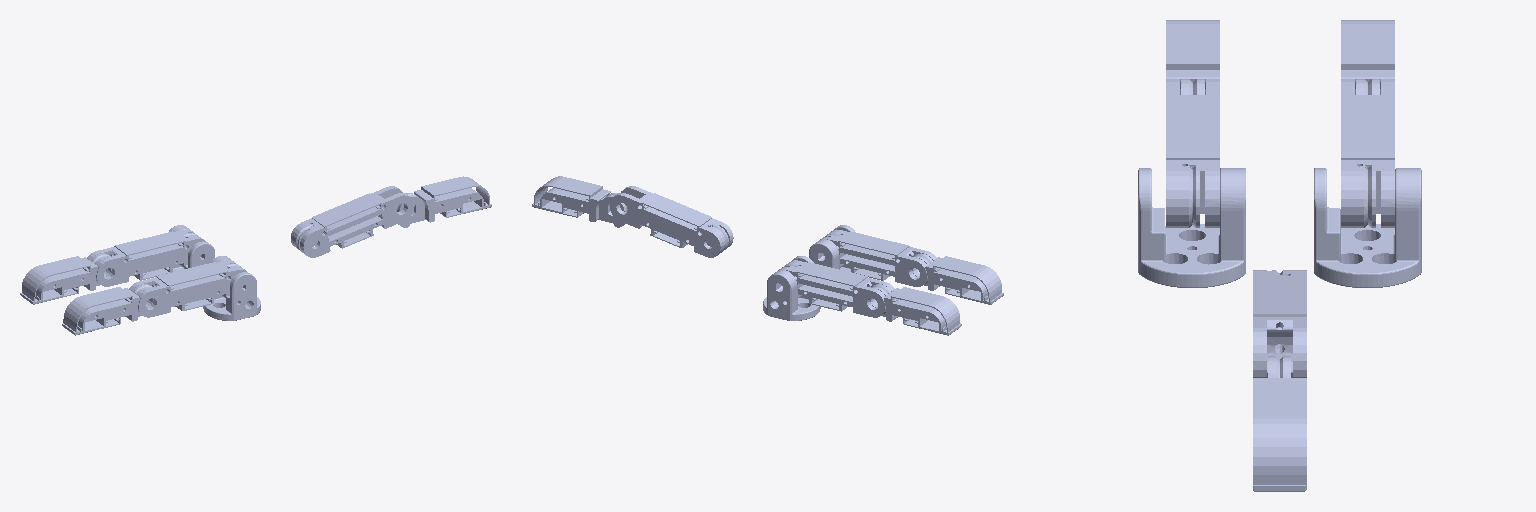
robot.urdf — decopin_hand:
<?xml version="1.0" encoding="utf-8"?>
<!-- This URDF was automatically created by SolidWorks to URDF Exporter! Originally created by [author] ([email redacted])
     Commit Version:   Build Version: 1.5.7377.30466
     For more information, please see http://wiki.ros.org/sw_urdf_exporter -->
<robot
  name="decopin_hand">
  <link
    name="base_link">
    <inertial>
      <origin
        xyz="0.00326666110843798 -0.00336166240876631 0.0343253683259049"
        rpy="0 0 0" />
      <mass
        value="0.162712098324136" />
      <inertia
        ixx="0.000123695295505319"
        ixy="9.75880411617553E-06"
        ixz="1.10241429732574E-05"
        iyy="0.000177834113016212"
        iyz="-3.76890838864753E-07"
        izz="0.00027106266998108" />
    </inertial>
    <visual>
      <origin
        xyz="0 0 0"
        rpy="0 0 0" />
      <geometry>
        <mesh
          filename="package://decopin_hand/model/meshes/base_link.STL" />
      </geometry>
      <material
        name="">
        <color
          rgba="0.792156862745098 0.819607843137255 0.933333333333333 1" />
      </material>
    </visual>
    <collision>
      <origin
        xyz="0 0 0"
        rpy="0 0 0" />
      <geometry>
        <mesh
          filename="package://decopin_hand/model/meshes/base_link.STL" />
      </geometry>
    </collision>
  </link>
  <link
    name="fixed_finger_middle_link">
    <inertial>
      <origin
        xyz="-0.0306733076523489 0.000325931542531605 -0.00509503343899385"
        rpy="0 0 0" />
      <mass
        value="0.012112639618092" />
      <inertia
        ixx="7.48148189618447E-07"
        ixy="-2.04598692501984E-08"
        ixz="-7.84968236790767E-07"
        iyy="5.85392057416386E-06"
        iyz="-3.97525093069152E-09"
        izz="5.73248139435011E-06" />
    </inertial>
    <visual>
      <origin
        xyz="0 0 0"
        rpy="0 0 0" />
      <geometry>
        <mesh
          filename="package://decopin_hand/model/meshes/fixed_finger_middle_link.STL" />
      </geometry>
      <material
        name="">
        <color
          rgba="0.792156862745098 0.819607843137255 0.933333333333333 1" />
      </material>
    </visual>
    <collision>
      <origin
        xyz="0 0 0"
        rpy="0 0 0" />
      <geometry>
        <mesh
          filename="package://decopin_hand/model/meshes/fixed_finger_middle_link.STL" />
      </geometry>
    </collision>
  </link>
  <joint
    name="fixed_finger_middle_joint"
    type="continuous">
    <origin
      xyz="0.0354 0 0.09685"
      rpy="-3.1416 0 3.1416" />
    <parent
      link="base_link" />
    <child
      link="fixed_finger_middle_link" />
    <axis
      xyz="0 -1 0" />
  </joint>
  <link
    name="fixed_finger_tip_link">
    <inertial>
      <origin
        xyz="-0.0308095655488988 -0.000135001005162033 -0.00432203367129749"
        rpy="0 0 0" />
      <mass
        value="0.00796134948914291" />
      <inertia
        ixx="3.1367201557978E-07"
        ixy="-5.43567724121795E-14"
        ixz="2.42289633106898E-08"
        iyy="2.28288008547019E-06"
        iyz="5.60111423921652E-14"
        izz="2.25235140954179E-06" />
    </inertial>
    <visual>
      <origin
        xyz="0 0 0"
        rpy="0 0 0" />
      <geometry>
        <mesh
          filename="package://decopin_hand/model/meshes/fixed_finger_tip_link.STL" />
      </geometry>
      <material
        name="">
        <color
          rgba="0.792156862745098 0.819607843137255 0.933333333333333 1" />
      </material>
    </visual>
    <collision>
      <origin
        xyz="0 0 0"
        rpy="0 0 0" />
      <geometry>
        <mesh
          filename="package://decopin_hand/model/meshes/fixed_finger_tip_link.STL" />
      </geometry>
    </collision>
  </link>
  <joint
    name="fixed_finger_tip_joint"
    type="continuous">
    <origin
      xyz="-0.0625 0 0"
      rpy="0 0 0" />
    <parent
      link="fixed_finger_middle_link" />
    <child
      link="fixed_finger_tip_link" />
    <axis
      xyz="0 1 0" />
    <mimic
      joint="fixed_finger_middle_joint"
      multiplier="-1"
      offset="0" />
  </joint>
  <link
    name="rotated_finger_left_link">
    <inertial>
      <origin
        xyz="-0.000247288229964737 0.00779698793777467 -0.000909492176570659"
        rpy="0 0 0" />
      <mass
        value="0.00878951115455076" />
      <inertia
        ixx="1.75051397031089E-06"
        ixy="-1.36063225734903E-08"
        ixz="2.542215040028E-09"
        iyy="1.55567461519624E-06"
        iyz="9.21622021312072E-08"
        izz="1.13732977908584E-06" />
    </inertial>
    <visual>
      <origin
        xyz="0 0 0"
        rpy="0 0 0" />
      <geometry>
        <mesh
          filename="package://decopin_hand/model/meshes/rotated_finger_left_link.STL" />
      </geometry>
      <material
        name="">
        <color
          rgba="0.792156862745098 0.819607843137255 0.933333333333333 1" />
      </material>
    </visual>
    <collision>
      <origin
        xyz="0 0 0"
        rpy="0 0 0" />
      <geometry>
        <mesh
          filename="package://decopin_hand/model/meshes/rotated_finger_left_link.STL" />
      </geometry>
    </collision>
  </link>
  <joint
    name="rotated_finger_left_joint"
    type="continuous">
    <origin
      xyz="-0.035 0.026 0.078455"
      rpy="1.5708 0 0" />
    <parent
      link="base_link" />
    <child
      link="rotated_finger_left_link" />
    <axis
      xyz="0 -1 0" />
  </joint>
  <link
    name="rotated_finger_left_middle_link">
    <inertial>
      <origin
        xyz="-0.0310934440888702 0.00032593154256072 -9.43545005337026E-05"
        rpy="0 0 0" />
      <mass
        value="0.0121126396180919" />
      <inertia
        ixx="6.27871945484722E-07"
        ixy="-2.08328884779786E-08"
        ixz="4.70306335442706E-08"
        iyy="5.85392057416386E-06"
        iyz="-6.32160706835151E-10"
        izz="5.85275763848377E-06" />
    </inertial>
    <visual>
      <origin
        xyz="0 0 0"
        rpy="0 0 0" />
      <geometry>
        <mesh
          filename="package://decopin_hand/model/meshes/rotated_finger_left_middle_link.STL" />
      </geometry>
      <material
        name="">
        <color
          rgba="0.792156862745098 0.819607843137255 0.933333333333333 1" />
      </material>
    </visual>
    <collision>
      <origin
        xyz="0 0 0"
        rpy="0 0 0" />
      <geometry>
        <mesh
          filename="package://decopin_hand/model/meshes/rotated_finger_left_middle_link.STL" />
      </geometry>
    </collision>
  </link>
  <joint
    name="rotated_finger_left_middle_joint"
    type="continuous">
    <origin
      xyz="0 0.018945 0"
      rpy="1.5708 0 0" />
    <parent
      link="rotated_finger_left_link" />
    <child
      link="rotated_finger_left_middle_link" />
    <axis
      xyz="0 -1 0" />
  </joint>
  <link
    name="rotated_finger_left_tip_link">
    <inertial>
      <origin
        xyz="-0.0220280704974958 -0.000135000904401633 0.000641289162772191"
        rpy="0 0 0" />
      <mass
        value="0.0079613496369525" />
      <inertia
        ixx="3.13671999050527E-07"
        ixy="-4.36310714124826E-14"
        ixz="2.42289611052509E-08"
        iyy="2.28288010267857E-06"
        iyz="4.80388888860962E-14"
        izz="2.25235143228842E-06" />
    </inertial>
    <visual>
      <origin
        xyz="0 0 0"
        rpy="0 0 0" />
      <geometry>
        <mesh
          filename="package://decopin_hand/model/meshes/rotated_finger_left_tip_link.STL" />
      </geometry>
      <material
        name="">
        <color
          rgba="0.792156862745098 0.819607843137255 0.933333333333333 1" />
      </material>
    </visual>
    <collision>
      <origin
        xyz="0 0 0"
        rpy="0 0 0" />
      <geometry>
        <mesh
          filename="package://decopin_hand/model/meshes/rotated_finger_left_tip_link.STL" />
      </geometry>
    </collision>
  </link>
  <joint
    name="rotated_finger_left_tip_joint"
    type="continuous">
    <origin
      xyz="-0.0625 0 0"
      rpy="0 0 0" />
    <parent
      link="rotated_finger_left_middle_link" />
    <child
      link="rotated_finger_left_tip_link" />
    <axis
      xyz="0 1 0" />
    <mimic
      joint="rotated_finger_left_middle_joint"
      multiplier="-1"
      offset="0" />
  </joint>
  <link
    name="rotated_finger_right_link">
    <inertial>
      <origin
        xyz="-0.000247288698424053 0.00779698792537886 -0.000909491526077805"
        rpy="0 0 0" />
      <mass
        value="0.00878951022046176" />
      <inertia
        ixx="1.75051392590883E-06"
        ixy="-1.36063275650061E-08"
        ixz="2.5421849656863E-09"
        iyy="1.55567453104469E-06"
        iyz="9.21622214720096E-08"
        izz="1.13732975816502E-06" />
    </inertial>
    <visual>
      <origin
        xyz="0 0 0"
        rpy="0 0 0" />
      <geometry>
        <mesh
          filename="package://decopin_hand/model/meshes/rotated_finger_right_link.STL" />
      </geometry>
      <material
        name="">
        <color
          rgba="0.792156862745098 0.819607843137255 0.933333333333333 1" />
      </material>
    </visual>
    <collision>
      <origin
        xyz="0 0 0"
        rpy="0 0 0" />
      <geometry>
        <mesh
          filename="package://decopin_hand/model/meshes/rotated_finger_right_link.STL" />
      </geometry>
    </collision>
  </link>
  <joint
    name="rotated_finger_right_joint"
    type="continuous">
    <origin
      xyz="-0.035 -0.026 0.078455"
      rpy="1.5708 0 0" />
    <parent
      link="base_link" />
    <child
      link="rotated_finger_right_link" />
    <axis
      xyz="0 1 0" />
    <mimic
      joint="rotated_finger_left_joint"
      multiplier="1"
      offset="0" />
  </joint>
  <link
    name="rotated_finger_right_middle_link">
    <inertial>
      <origin
        xyz="-0.031093444095827 0.000325931552869668 -9.43544918970973E-05"
        rpy="0 0 0" />
      <mass
        value="0.0121126396388824" />
      <inertia
        ixx="6.27871946908534E-07"
        ixy="-2.08328858292897E-08"
        ixz="4.70306350736866E-08"
        iyy="5.85392057604089E-06"
        iyz="-6.32159130736594E-10"
        izz="5.85275764015695E-06" />
    </inertial>
    <visual>
      <origin
        xyz="0 0 0"
        rpy="0 0 0" />
      <geometry>
        <mesh
          filename="package://decopin_hand/model/meshes/rotated_finger_right_middle_link.STL" />
      </geometry>
      <material
        name="">
        <color
          rgba="0.792156862745098 0.819607843137255 0.933333333333333 1" />
      </material>
    </visual>
    <collision>
      <origin
        xyz="0 0 0"
        rpy="0 0 0" />
      <geometry>
        <mesh
          filename="package://decopin_hand/model/meshes/rotated_finger_right_middle_link.STL" />
      </geometry>
    </collision>
  </link>
  <joint
    name="rotated_finger_right_middle_joint"
    type="continuous">
    <origin
      xyz="0 0.018945 0"
      rpy="1.5708 0 0" />
    <parent
      link="rotated_finger_right_link" />
    <child
      link="rotated_finger_right_middle_link" />
    <axis
      xyz="0 -1 0" />
  </joint>
  <link
    name="rotated_finger_right_tip_link">
    <inertial>
      <origin
        xyz="-0.0220280712315673 -0.000135000758624521 0.000641289485322272"
        rpy="0 0 0" />
      <mass
        value="0.00796134910571186" />
      <inertia
        ixx="3.13671991421556E-07"
        ixy="-4.57241820260078E-14"
        ixz="2.42289456029643E-08"
        iyy="2.28288003893026E-06"
        iyz="4.73975544490113E-14"
        izz="2.25235135554214E-06" />
    </inertial>
    <visual>
      <origin
        xyz="0 0 0"
        rpy="0 0 0" />
      <geometry>
        <mesh
          filename="package://decopin_hand/model/meshes/rotated_finger_right_tip_link.STL" />
      </geometry>
      <material
        name="">
        <color
          rgba="0.792156862745098 0.819607843137255 0.933333333333333 1" />
      </material>
    </visual>
    <collision>
      <origin
        xyz="0 0 0"
        rpy="0 0 0" />
      <geometry>
        <mesh
          filename="package://decopin_hand/model/meshes/rotated_finger_right_tip_link.STL" />
      </geometry>
    </collision>
  </link>
  <joint
    name="rotated_finger_right_tip_joint"
    type="continuous">
    <origin
      xyz="-0.0625 0 0"
      rpy="0 0 0" />
    <parent
      link="rotated_finger_right_middle_link" />
    <child
      link="rotated_finger_right_tip_link" />
    <axis
      xyz="0 1 0" />
    <mimic
      joint="rotated_finger_right_middle_joint"
      multiplier="-1"
      offset="0" />
  </joint>
</robot>

--- Render facts (derived) ---
The picture shows the robot from 3 angles, left to right: view 1: azimuth 30°, elevation 25°; view 2: azimuth 150°, elevation 25°; view 3: azimuth 270°, elevation 25°; orthographic projection.
Model decopin_hand with 9 links and 8 joints (8 continuous), rooted at base_link, posed every joint at zero.
Links seen in each view (by area): view 1: fixed_finger_middle_link, rotated_finger_right_middle_link, rotated_finger_left_middle_link, rotated_finger_left_tip_link, rotated_finger_right_tip_link, fixed_finger_tip_link, rotated_finger_right_link, rotated_finger_left_link; view 2: fixed_finger_middle_link, rotated_finger_left_middle_link, rotated_finger_right_middle_link, rotated_finger_left_tip_link, rotated_finger_right_tip_link, fixed_finger_tip_link, rotated_finger_left_link, rotated_finger_right_link; view 3: rotated_finger_left_link, rotated_finger_right_link, rotated_finger_right_middle_link, rotated_finger_left_middle_link, fixed_finger_tip_link, fixed_finger_middle_link, rotated_finger_left_tip_link, rotated_finger_right_tip_link.
Link boxes in pixels (bbox=[...]): fixed_finger_middle_link: bbox=[291, 186, 414, 257]; rotated_finger_right_middle_link: bbox=[129, 260, 246, 317]; rotated_finger_left_middle_link: bbox=[87, 229, 205, 286]; rotated_finger_left_tip_link: bbox=[20, 253, 111, 304]; rotated_finger_right_tip_link: bbox=[62, 284, 153, 335]; fixed_finger_tip_link: bbox=[396, 176, 491, 227]; rotated_finger_right_link: bbox=[203, 256, 260, 320]; rotated_finger_left_link: bbox=[169, 225, 214, 271]; fixed_finger_middle_link: bbox=[609, 186, 733, 257]; rotated_finger_left_middle_link: bbox=[778, 260, 894, 317]; rotated_finger_right_middle_link: bbox=[820, 229, 936, 286]; rotated_finger_left_tip_link: bbox=[870, 284, 961, 335]; rotated_finger_right_tip_link: bbox=[912, 253, 1003, 304]; fixed_finger_tip_link: bbox=[532, 176, 627, 227]; rotated_finger_left_link: bbox=[763, 256, 820, 320]; rotated_finger_right_link: bbox=[809, 225, 854, 271]; rotated_finger_left_link: bbox=[1314, 168, 1421, 287]; rotated_finger_right_link: bbox=[1138, 168, 1245, 287]; rotated_finger_right_middle_link: bbox=[1166, 79, 1219, 227]; rotated_finger_left_middle_link: bbox=[1341, 79, 1394, 227]; fixed_finger_tip_link: bbox=[1253, 356, 1306, 491]; fixed_finger_middle_link: bbox=[1253, 270, 1306, 377]; rotated_finger_left_tip_link: bbox=[1341, 20, 1394, 94]; rotated_finger_right_tip_link: bbox=[1166, 20, 1219, 94].
Bounding box of the posed robot: 0.3136 × 0.084 × 0.0398 m (x, y, z).
8 mesh visuals loaded from 9 distinct referenced files (8 binary STL); not drawn: 1 (reference not matched to a file when rendering).